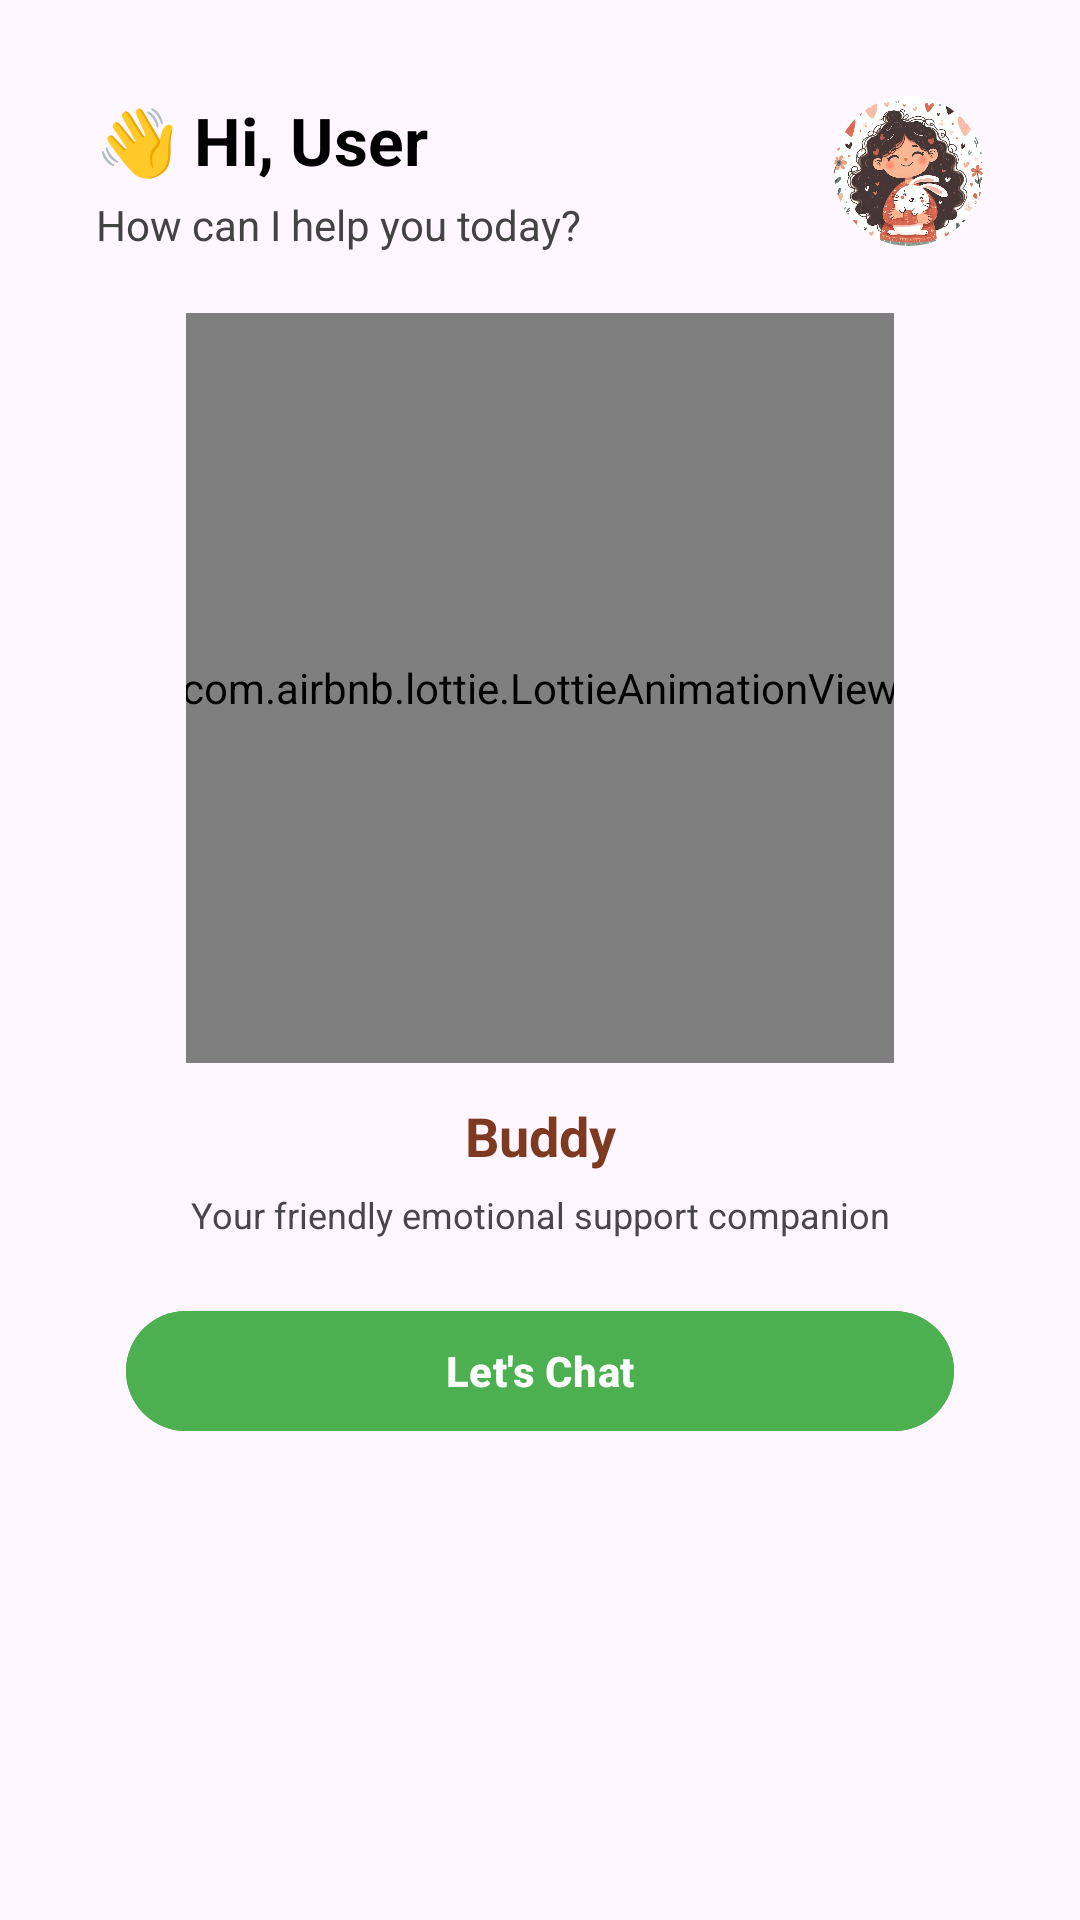

Named icons in this screenshot (1080px×1920px) and their centers, [x,y]:
Profile picture: [908,173]
